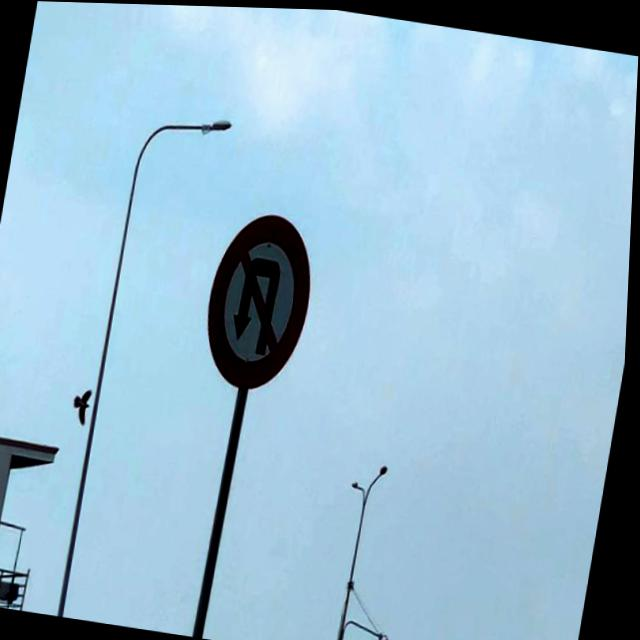Cam quay dau xe: (194, 199, 331, 404)
